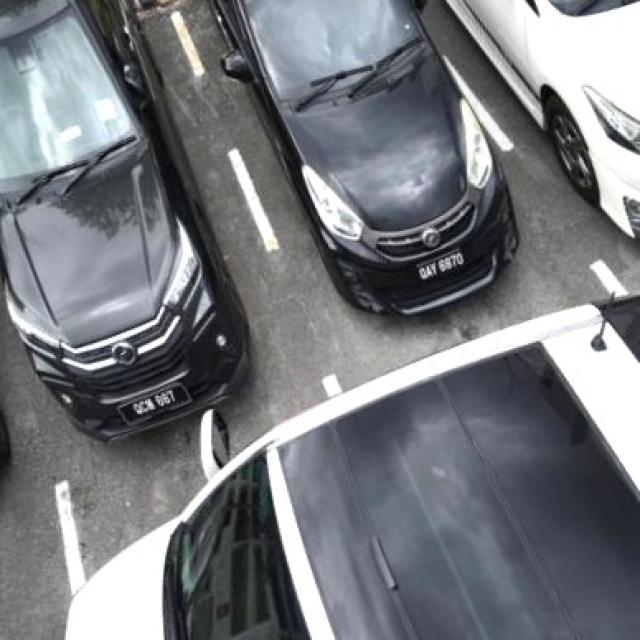Legalparking: (0, 0, 246, 439), (213, 0, 518, 313)
illegalparking: (66, 295, 638, 638)
